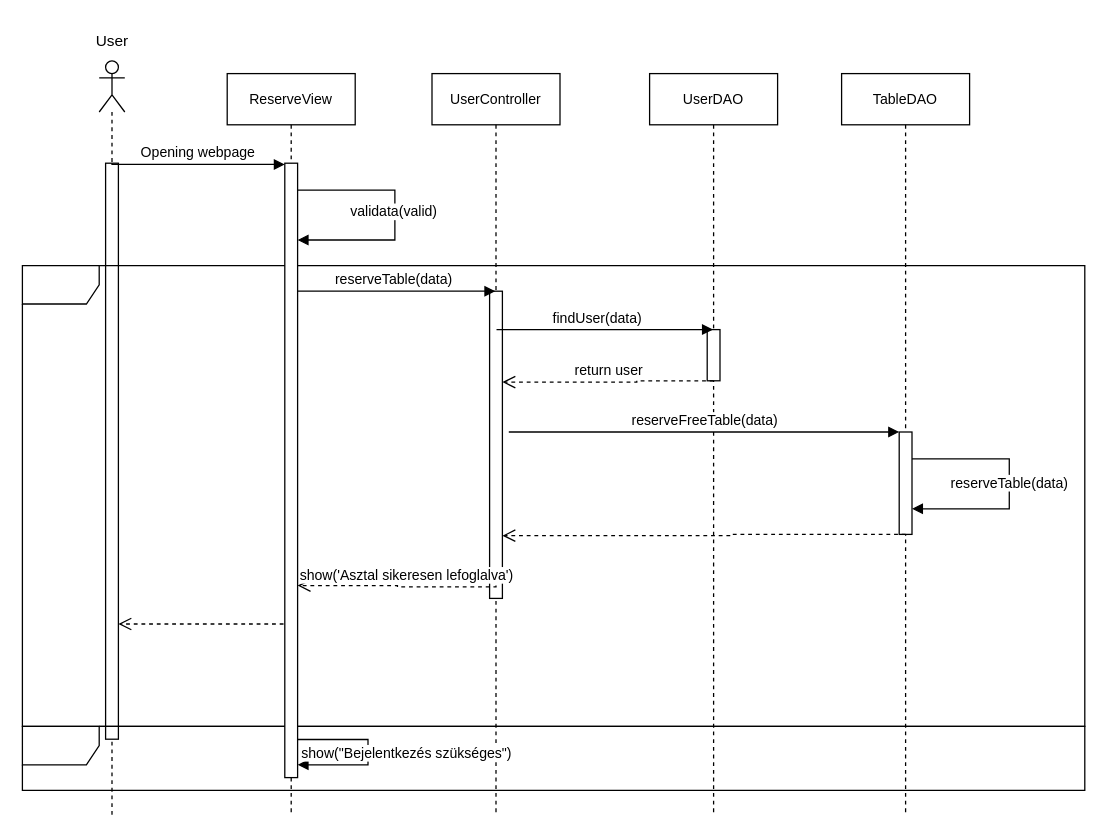
Some shapes in this 1107 by 838 pixel diagram are drawn without their labels. Here are the shapes that lost their labels. From the top down, the centre of each, then its label:
At point (553, 495): "Valid data".
At point (553, 757): "Invalid data".
